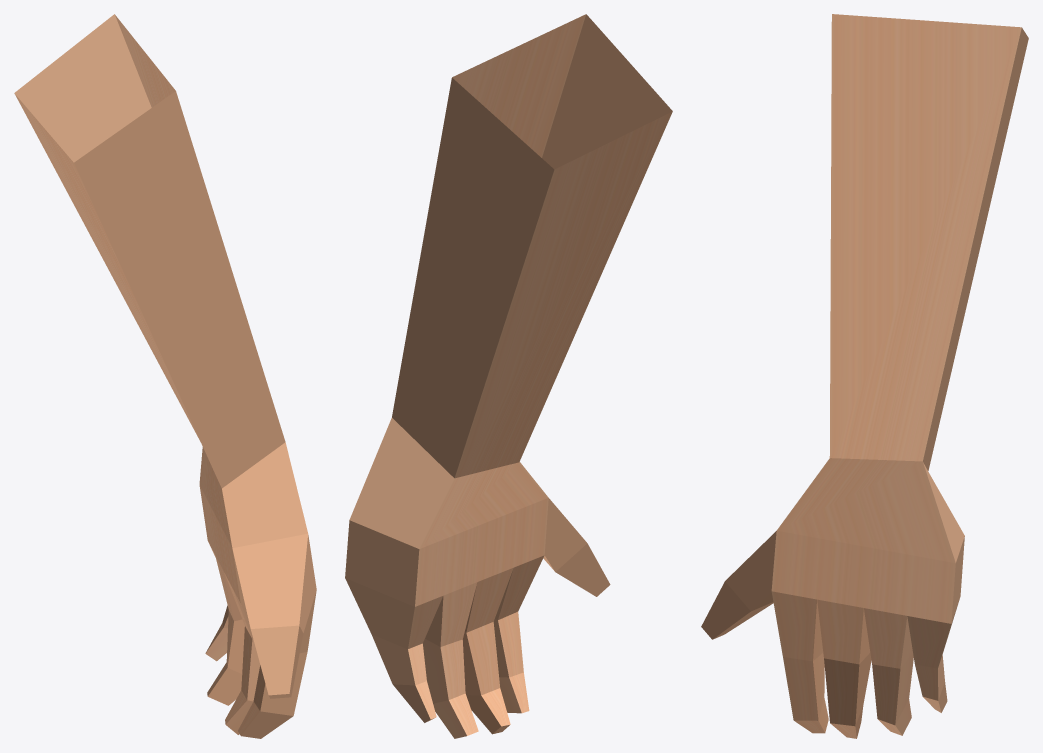
Rendered from brazo1.obj.
3 renders of one model, left to right at view 1: azimuth 30°, elevation 25°; view 2: azimuth 150°, elevation 25°; view 3: azimuth 270°, elevation 25°, orthographic. The views are drawn at different scales.
Visible parts, largest first — view 1: Cube.006; view 2: Cube.006; view 3: Cube.006.
Part boxes in pixels (bbox=[...]): Cube.006: bbox=[14, 14, 316, 738]; Cube.006: bbox=[345, 14, 672, 738]; Cube.006: bbox=[701, 14, 1028, 738].
Bounding box in the file's own units: 0.2748 × 0.6948 × 0.2989.
Materials: 1 (1 with a texture image).
